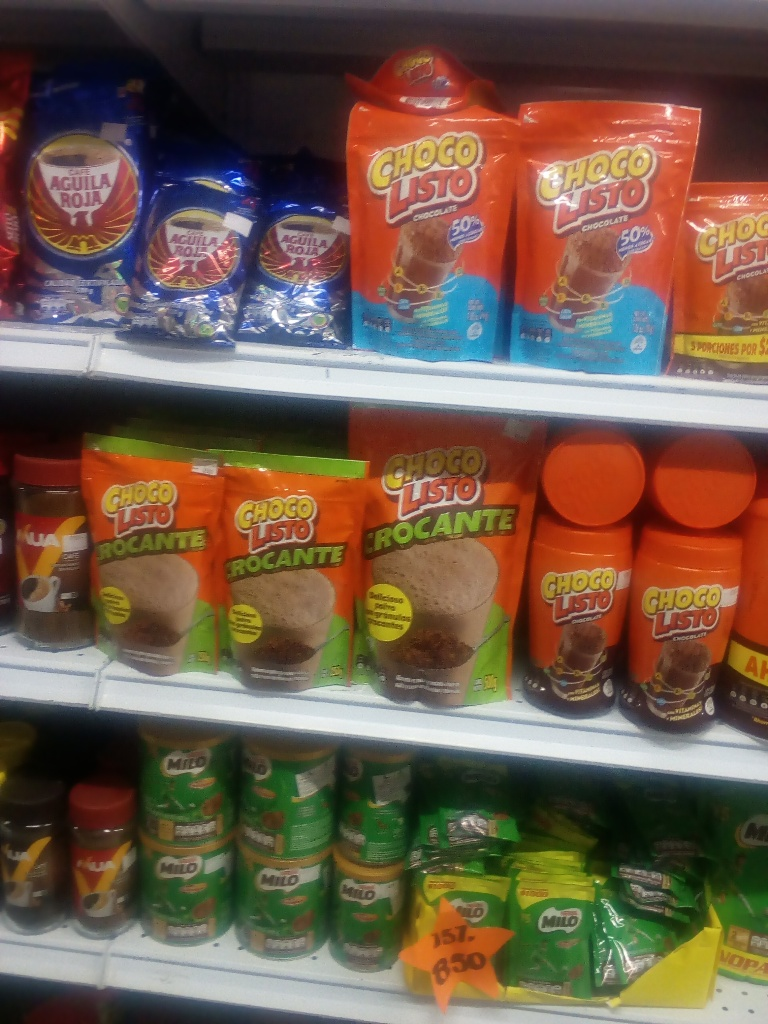COL0170102DYP25000: (68, 429, 219, 671)
COL0170102DYP50000: (346, 396, 535, 711)
COL0170103TRR30000: (537, 501, 628, 730)
COL0170104DYP20000: (347, 89, 510, 371)
COL0170203LAT20000: (337, 737, 415, 866)
COL0170203LAT40000: (138, 720, 232, 843)
